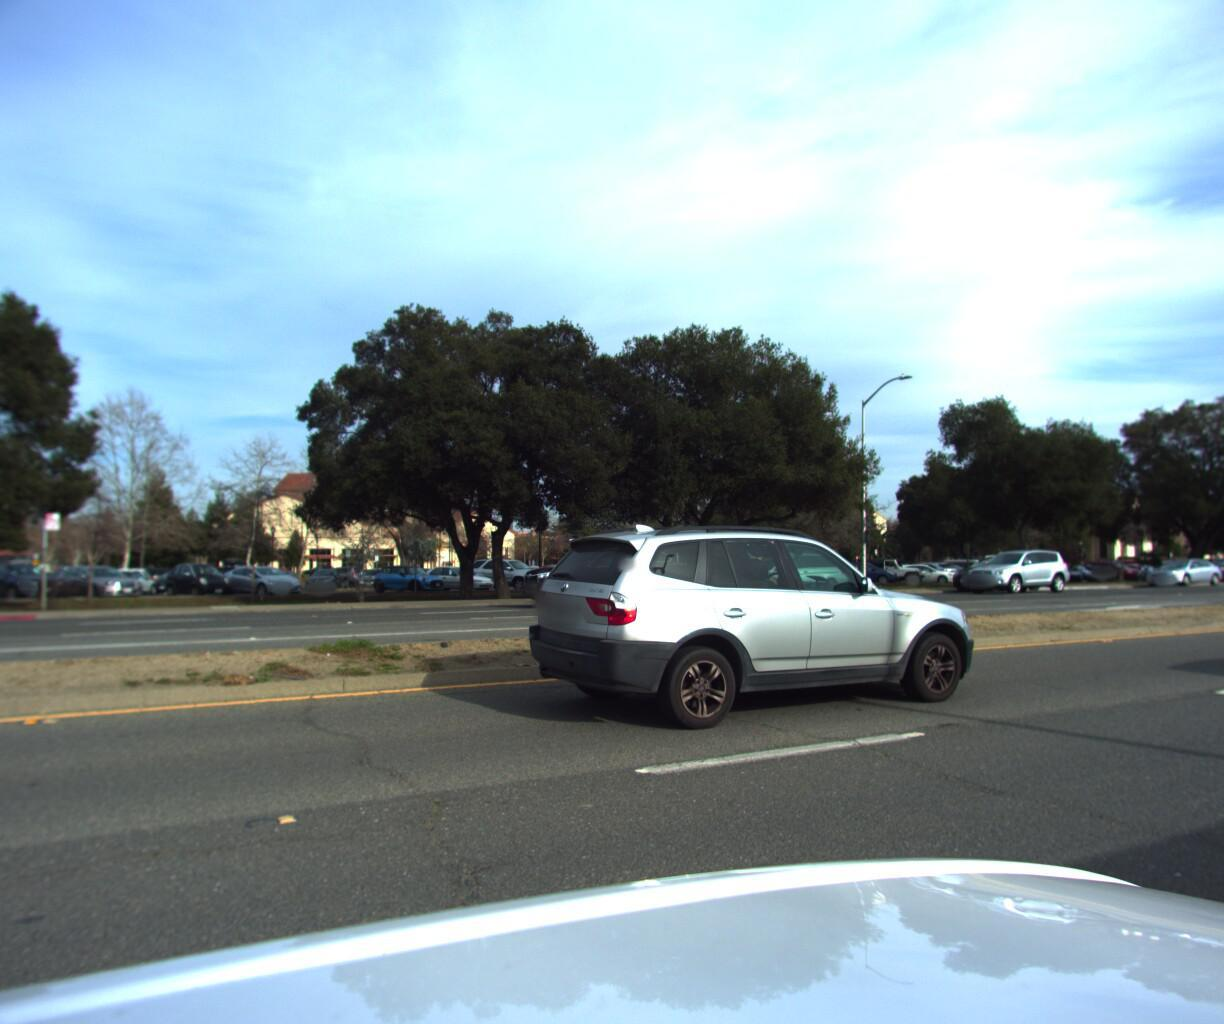car: (517, 514, 997, 745), (514, 542, 692, 608), (715, 544, 859, 598), (952, 543, 1081, 591), (939, 547, 1050, 588), (1131, 552, 1224, 582)
